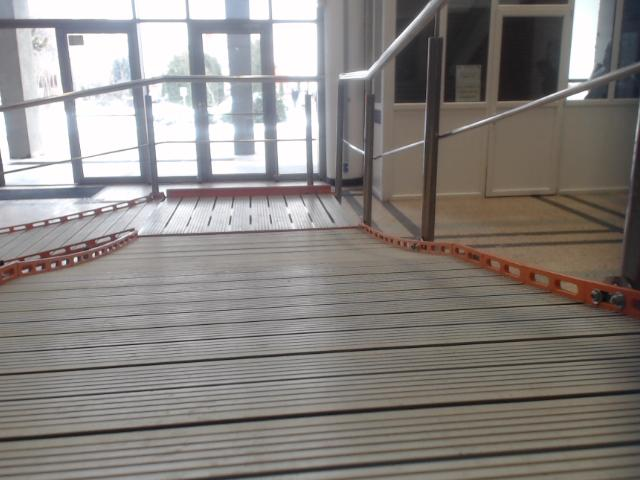rampDown: (0, 194, 639, 479)
ramps-railing: (380, 38, 639, 240), (1, 92, 313, 190), (335, 0, 447, 198), (0, 75, 323, 112), (363, 92, 374, 225)
